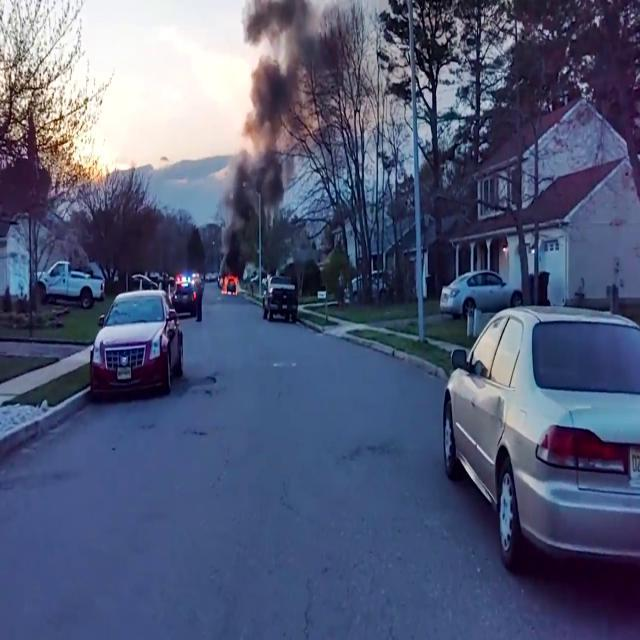Fire: (222, 274, 242, 300)
Smoke: (224, 0, 308, 268)
